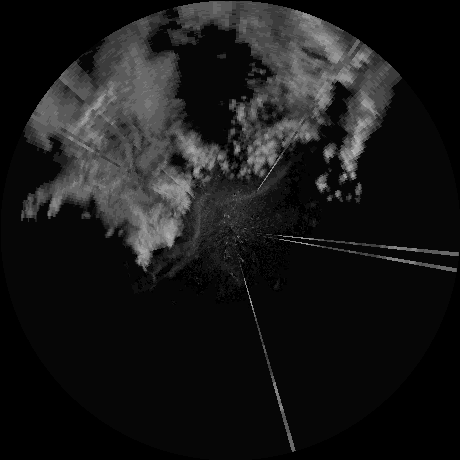frontgust: (153, 187, 213, 277), (222, 164, 294, 202)
